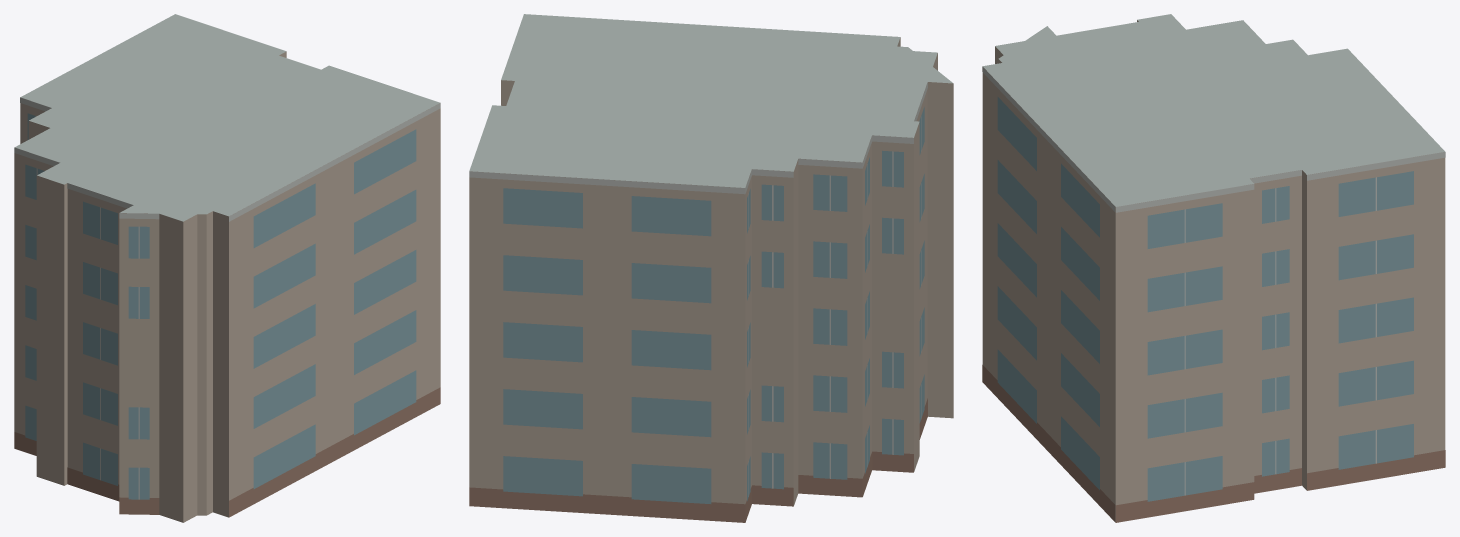
File: survey-upis-32747400.glb
The picture shows the model from 3 angles, left to right: view 1: azimuth 30°, elevation 25°; view 2: azimuth 150°, elevation 25°; view 3: azimuth 270°, elevation 25°; orthographic projection. The views are drawn at different scales.
Parts seen in each view (by area): view 1: survey-upis-32747400.tmp; view 2: survey-upis-32747400.tmp; view 3: survey-upis-32747400.tmp.
Part boxes in pixels (<box>): survey-upis-32747400.tmp: <box>14,14,440,522</box>; survey-upis-32747400.tmp: <box>469,14,953,522</box>; survey-upis-32747400.tmp: <box>982,14,1445,522</box>.
Size of the model in its own units: 17.31 by 13.2 by 17.55.
